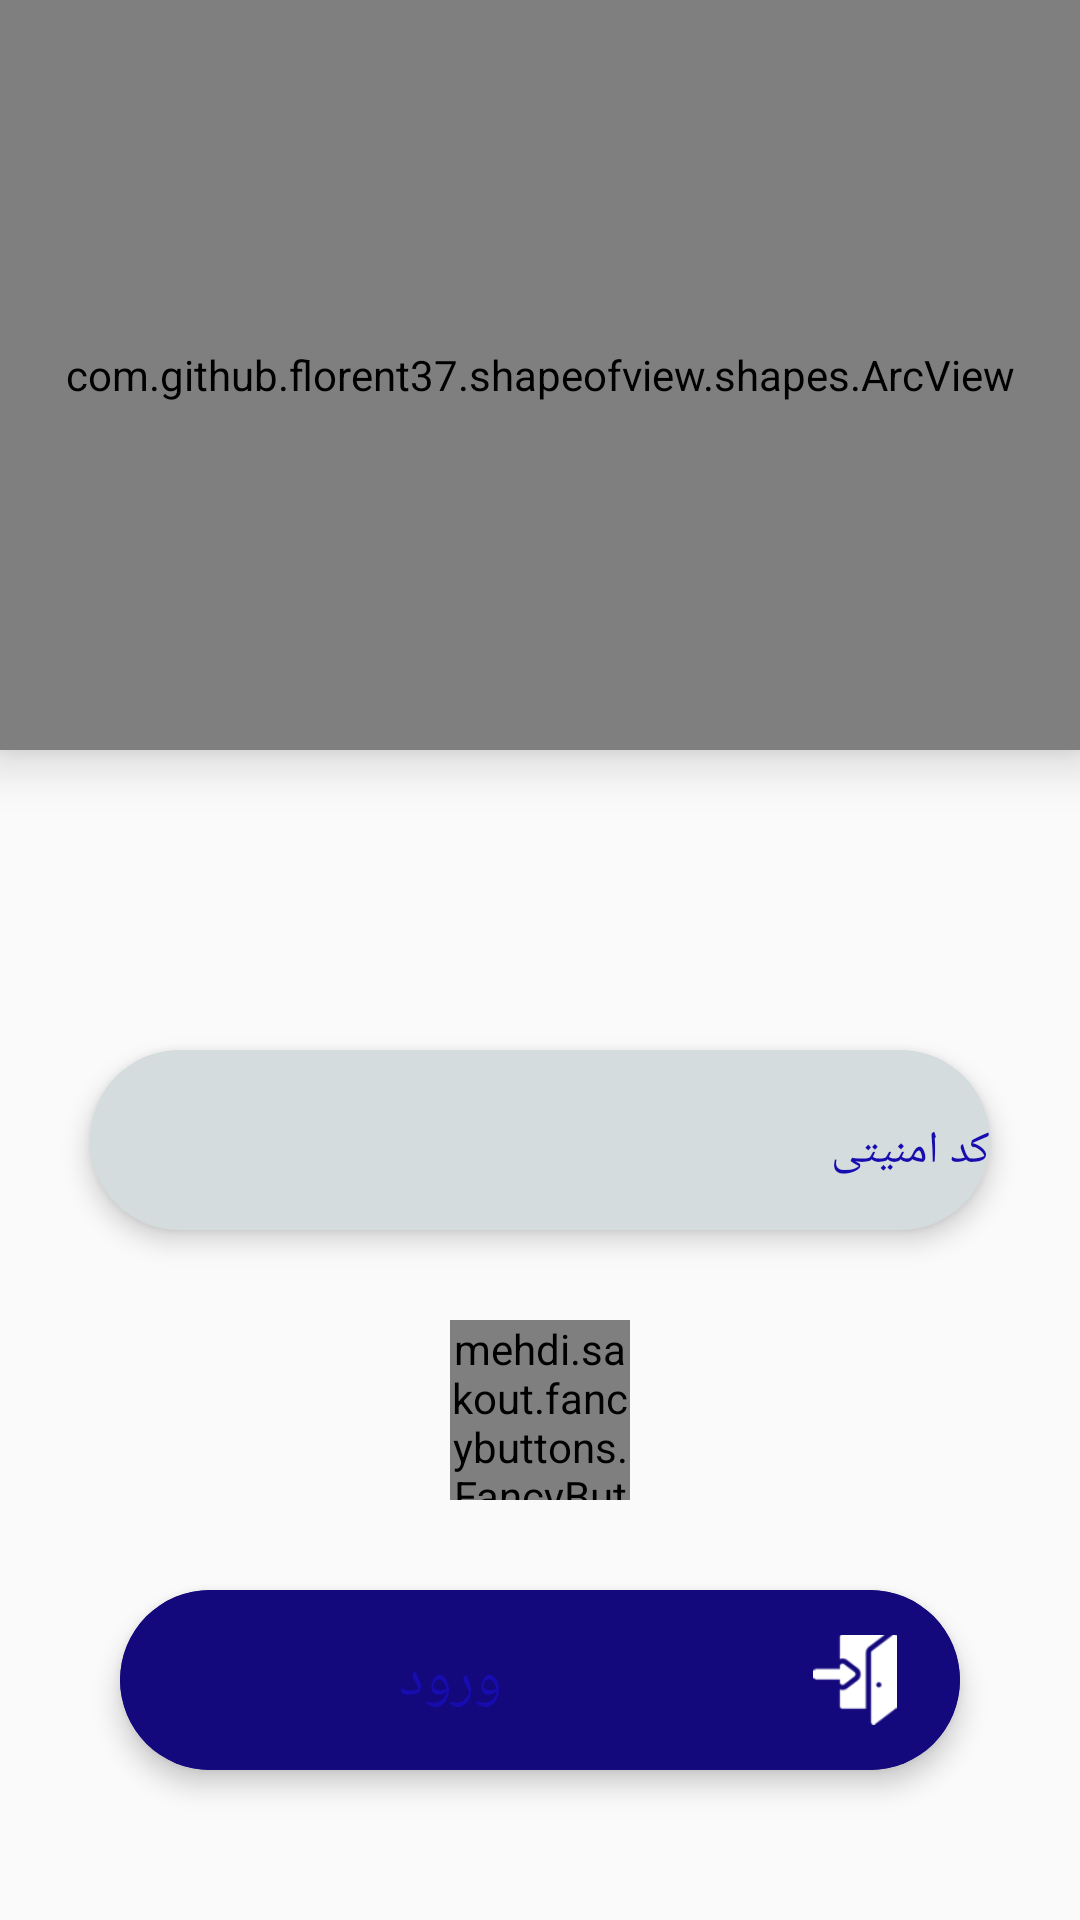

Icons on this 1080 x 1920 Android screen, each with the point to tap as (x,y):
login: (855,1680)
